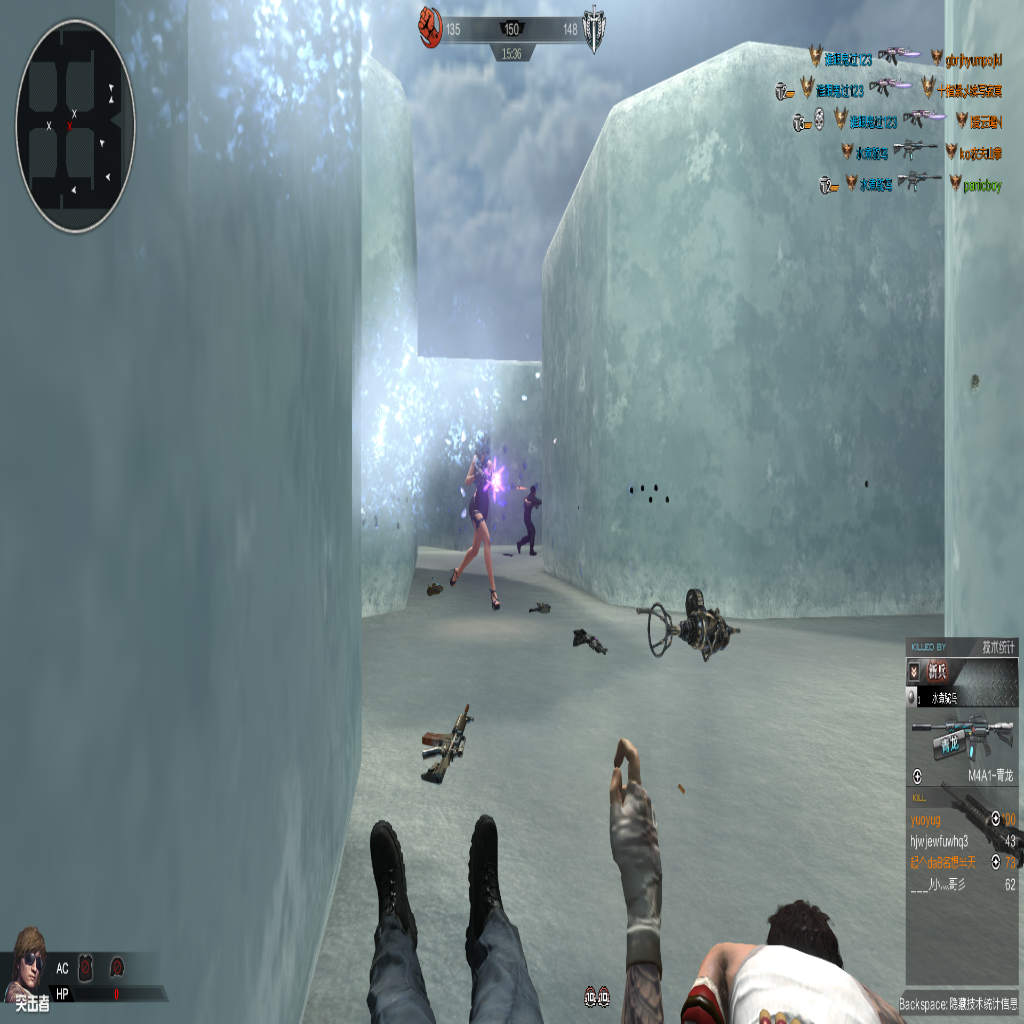ct: (449, 441, 501, 610), (516, 481, 543, 554)
